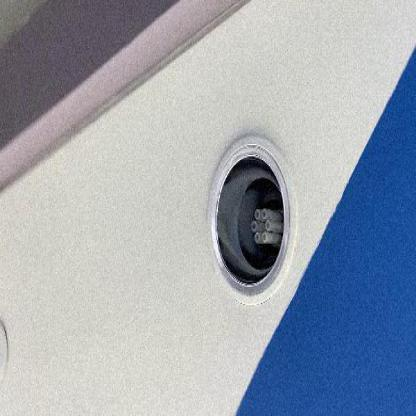light_off: (198, 94, 304, 318)
